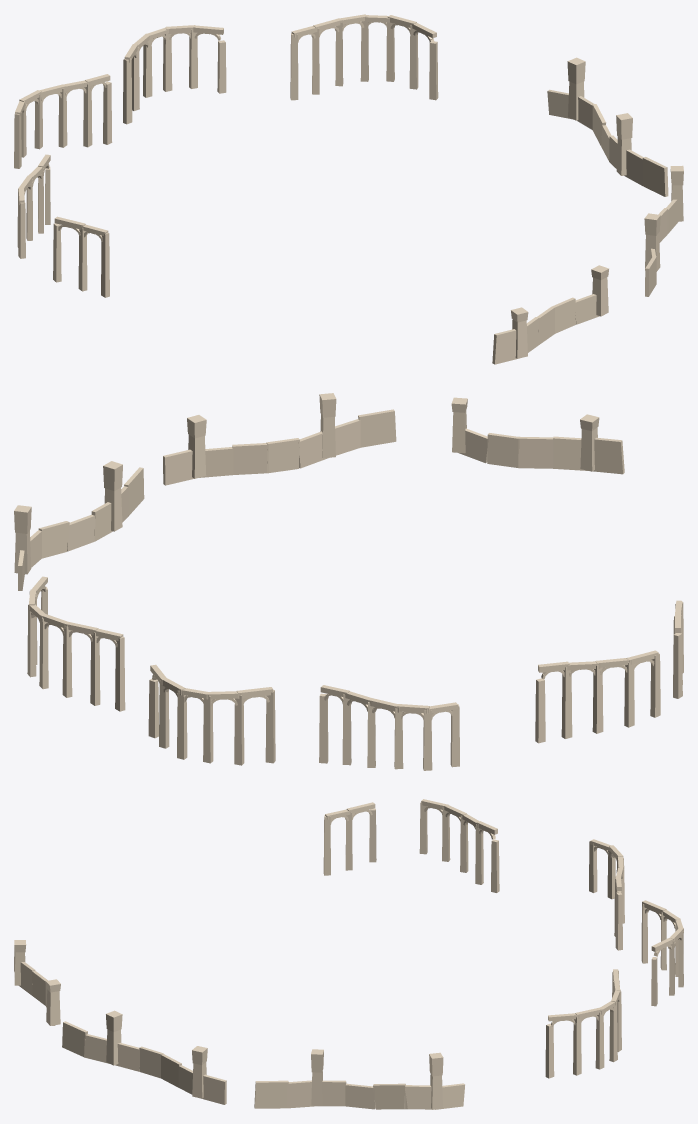
Rendered from run_far_ruins.glb.
3 renders of one model, top to bottom at view 1: azimuth 30°, elevation 25°; view 2: azimuth 150°, elevation 25°; view 3: azimuth 270°, elevation 25°, orthographic. The views are drawn at different scales.
Parts seen in each view (by area): view 1: run_far_ruins; view 2: run_far_ruins; view 3: run_far_ruins.
Part boxes in pixels (<box>): run_far_ruins: <box>14,14,683,364</box>; run_far_ruins: <box>14,393,683,770</box>; run_far_ruins: <box>14,799,683,1109</box>.
Bounding box in the file's own units: 596 × 67.82 × 657.
